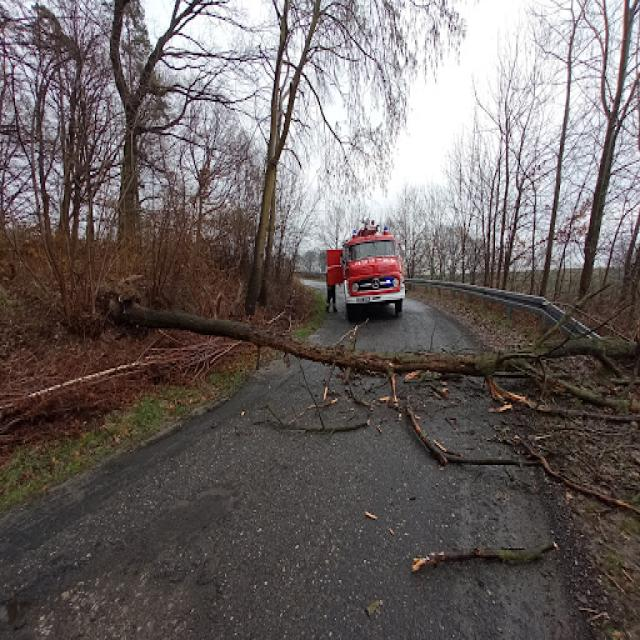fallen_tree: (128, 303, 640, 381)
